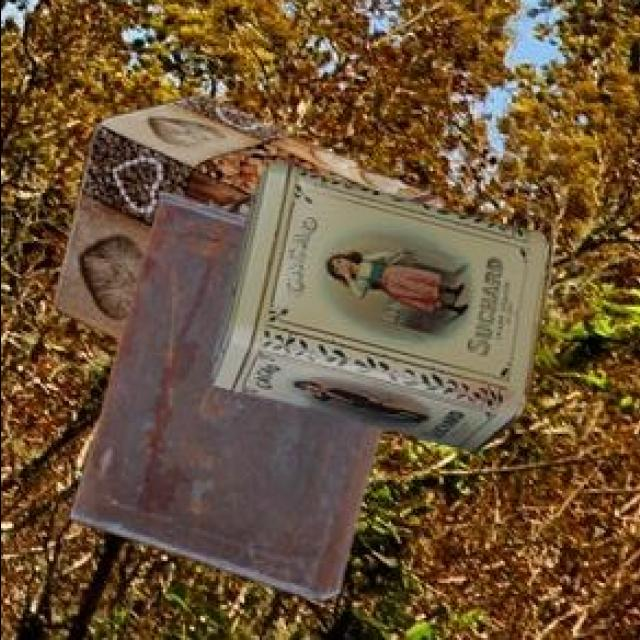logam: (73, 191, 385, 597), (216, 159, 556, 450), (56, 91, 446, 336)
